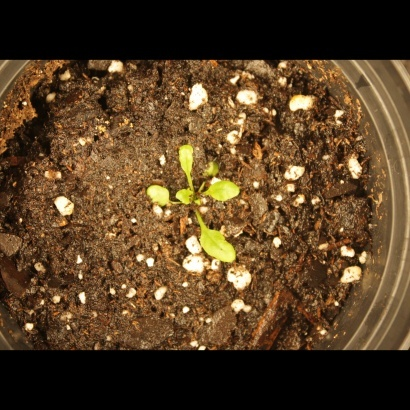leaf: (196, 214, 241, 270), (206, 181, 249, 205), (177, 140, 200, 183), (144, 179, 172, 211), (201, 159, 224, 182), (176, 185, 199, 208)
